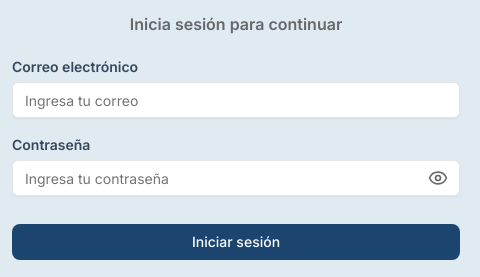
Flujo de Autenticación: <LoginForm /> › 5. Verifica el estado de carga (isLoading) deshabilitando inputs
Type "test@test.com" into the field labelled "Correo electrónico" at (236,100), box [12,82,460,118]
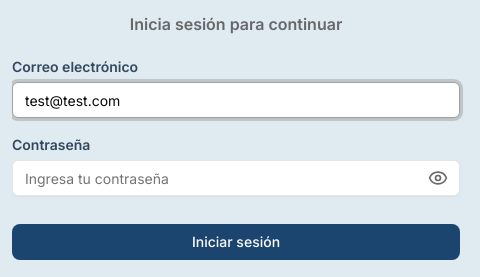
Type "12345678" into the password field labelled "Contraseña" at (236,178), box [12,160,460,196]
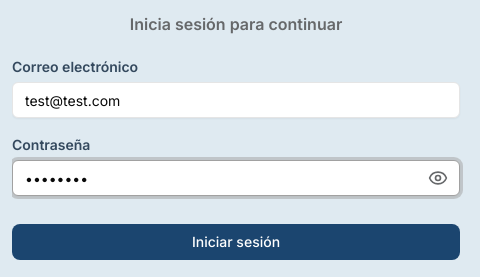
Click sin usar await para atrapar el estado "en el medio" de la petición
Click the button "Iniciar sesión" at (236,242), box [12,224,460,260]
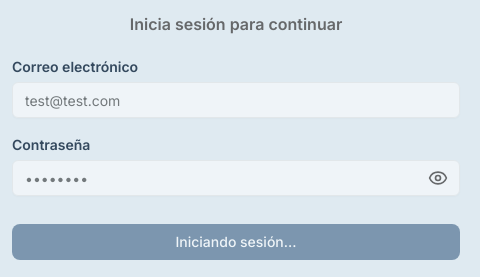
expect the field labelled "Correo electrónico" is disabled: met, box [12,82,460,118]
expect the password field labelled "Contraseña" is disabled: met, box [12,160,460,196]
expect the button named "iniciar sesión" is disabled: met, box [12,224,460,260]
